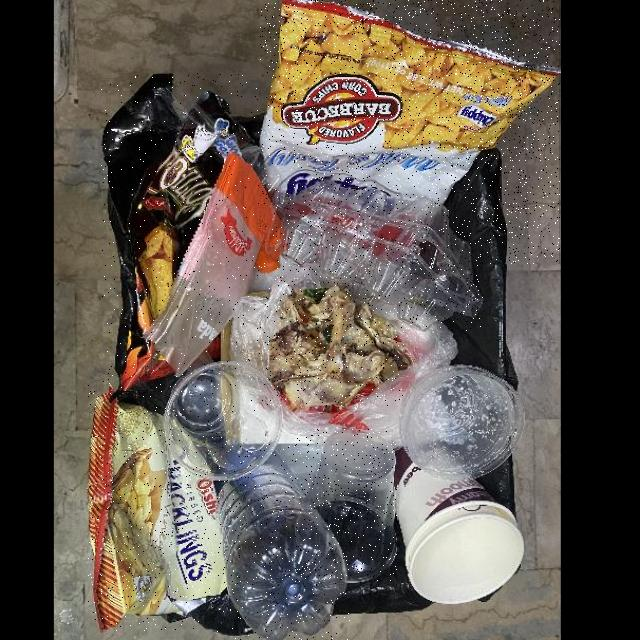biowaste: (268, 287, 404, 406)
plastic: (276, 180, 485, 331), (216, 442, 350, 640), (296, 429, 398, 582)
wrapper: (261, 0, 560, 264), (102, 74, 268, 416), (88, 386, 227, 631), (145, 152, 289, 378)
